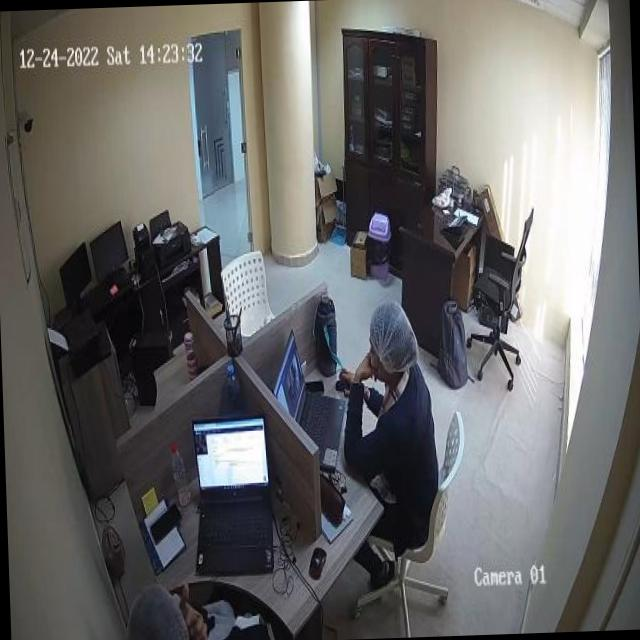hairnet: (127, 587, 189, 640), (368, 304, 418, 369)
